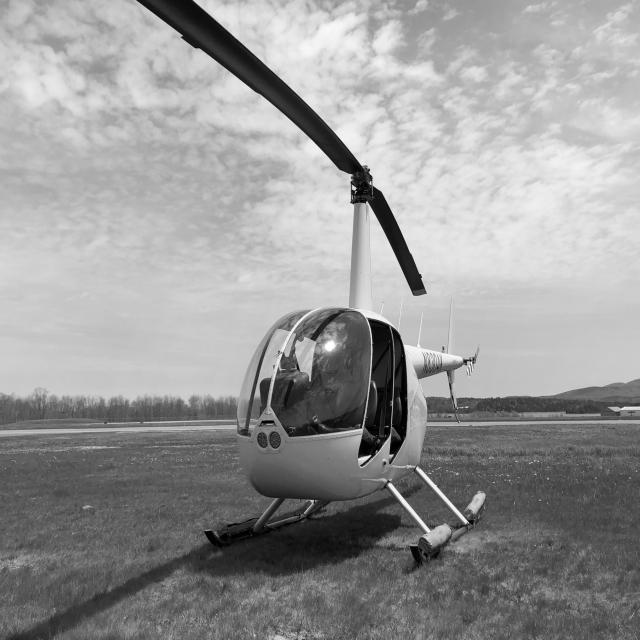helicopter: (73, 1, 501, 582)
